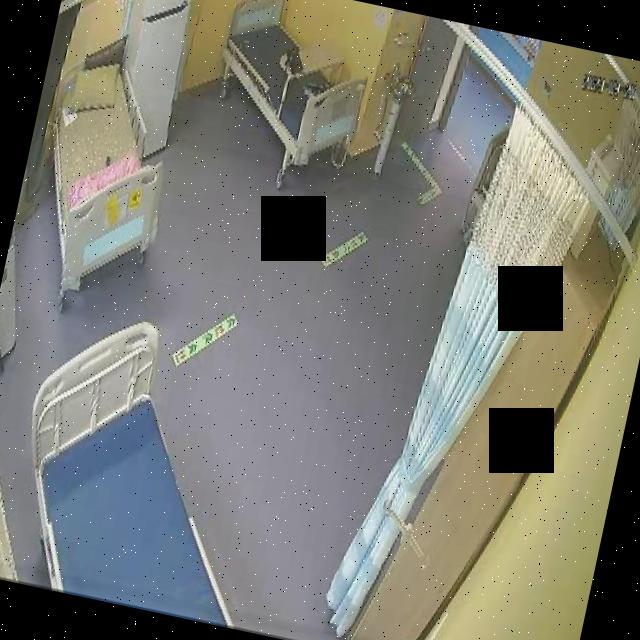bed: (0, 303, 290, 626), (20, 36, 194, 288), (200, 0, 382, 177)
